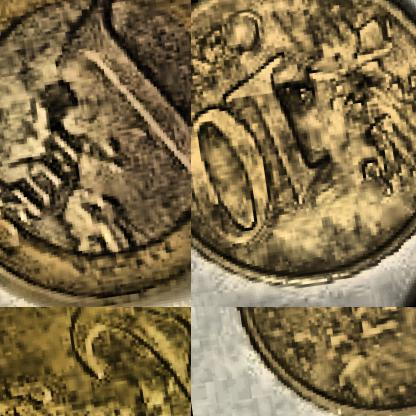coin: (191, 0, 415, 305), (0, 0, 190, 306), (215, 307, 415, 415), (0, 307, 190, 415)
